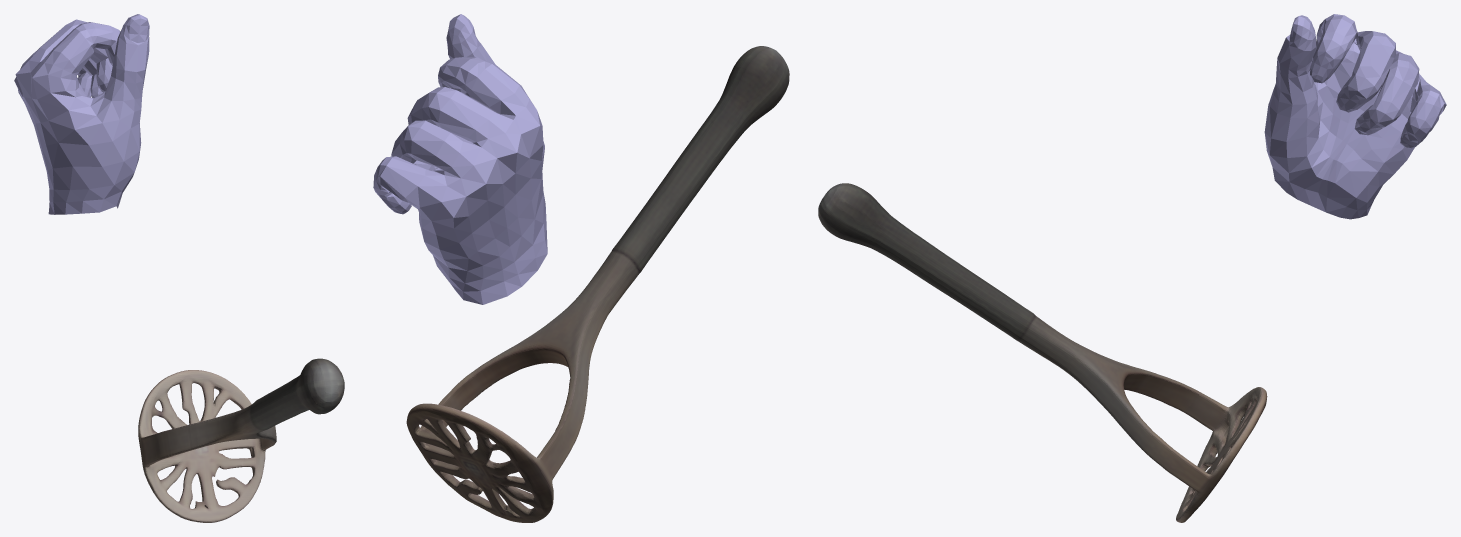
File: frame_0084_source_000084_hand_object.glb
3 renders of one model, left to right at view 1: azimuth 30°, elevation 25°; view 2: azimuth 150°, elevation 25°; view 3: azimuth 270°, elevation 25°, orthographic. The views are drawn at different scales.
Parts seen in each view (by area): view 1: world; view 2: world; view 3: world.
Boxes of the visible parts, x1,y1,x2,y2 form: world: [14, 14, 344, 522]; world: [373, 14, 789, 522]; world: [818, 14, 1446, 522].
Size of the model in its own units: 0.1057 by 0.2841 by 0.3297.
